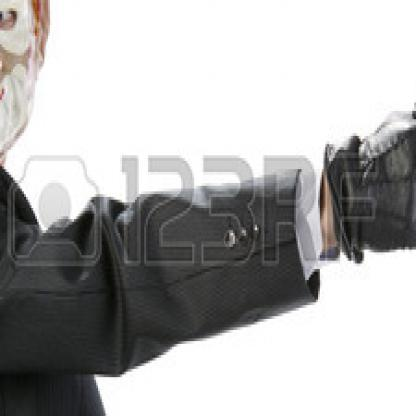gun: (327, 28, 414, 272)
